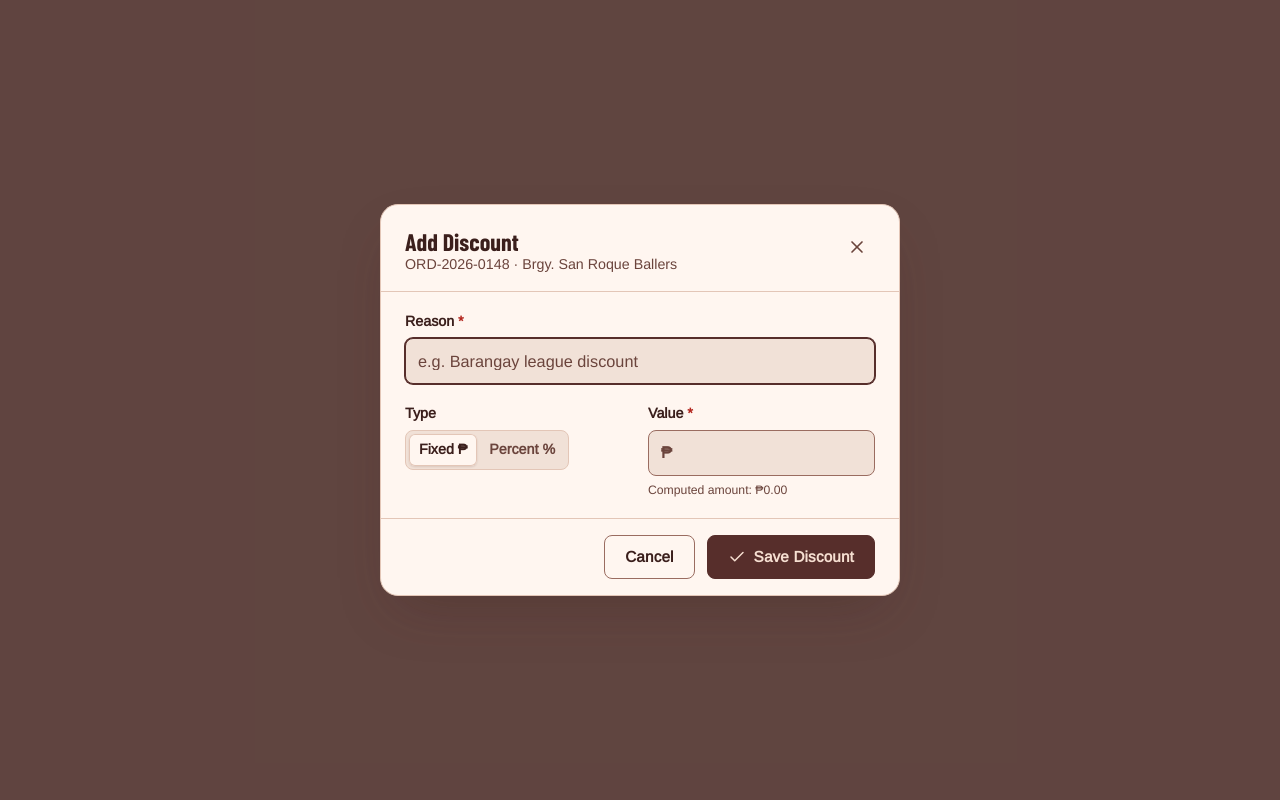
Scenario: Type and the Computed amount preview › shows "Computed amount: ₱1,122.50" for 5 percent of the server subtotal of ₱22,450.00
This screenshot has width=1280, height=800.
Step 1. Click the radio button labelled "Percent %" → click(522, 450), box x1=479 y1=434 x2=565 y2=466
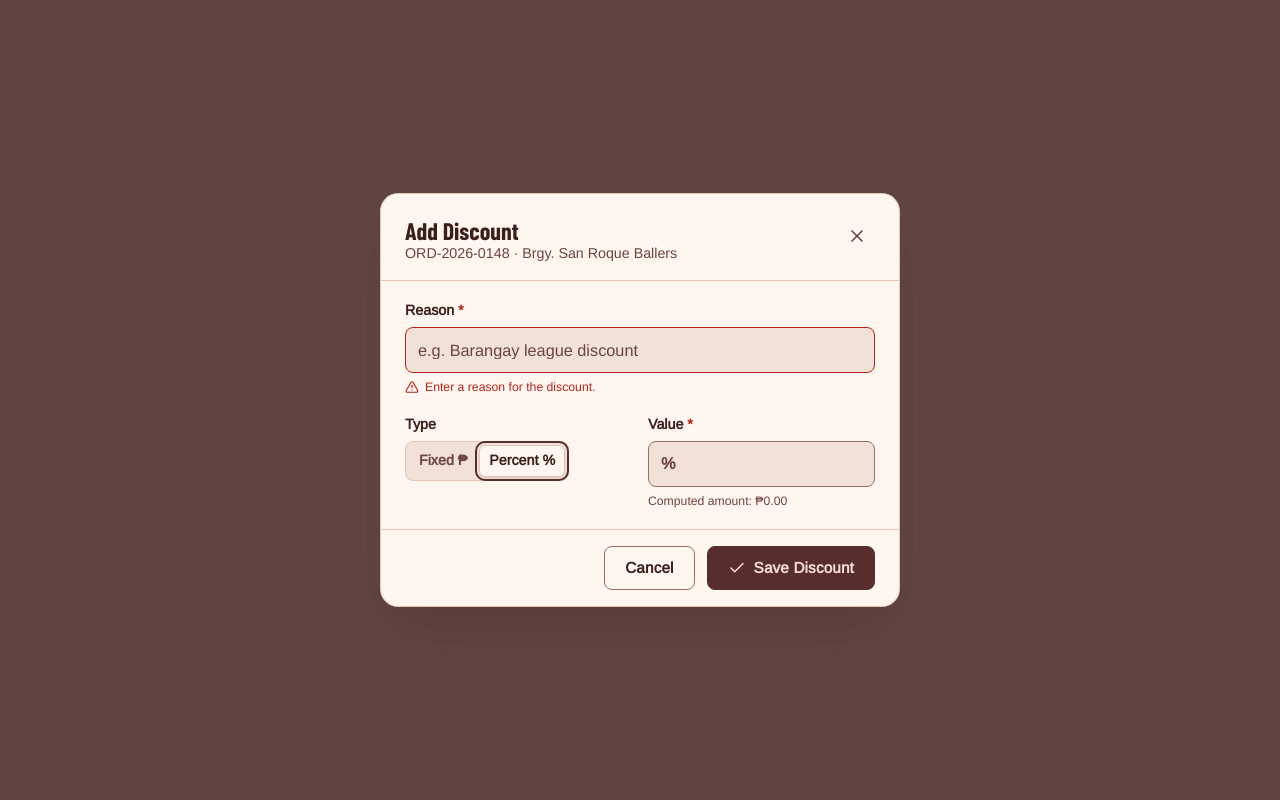
Step 2. Type "5" into the field labelled "Value *" → (775, 464), box x1=676 y1=442 x2=874 y2=486
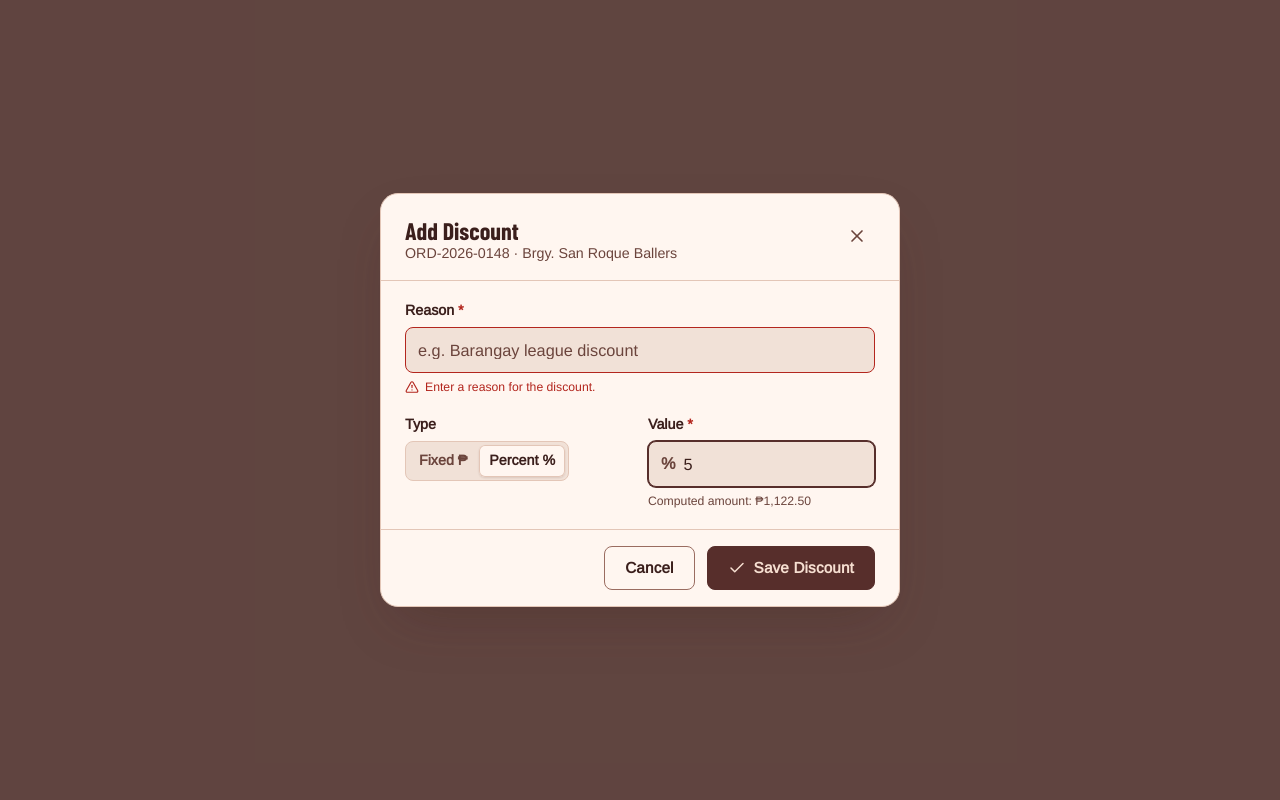
Expected: the text "Computed amount: ₱1,122.50" is shown, x1=648 y1=494 x2=811 y2=508
